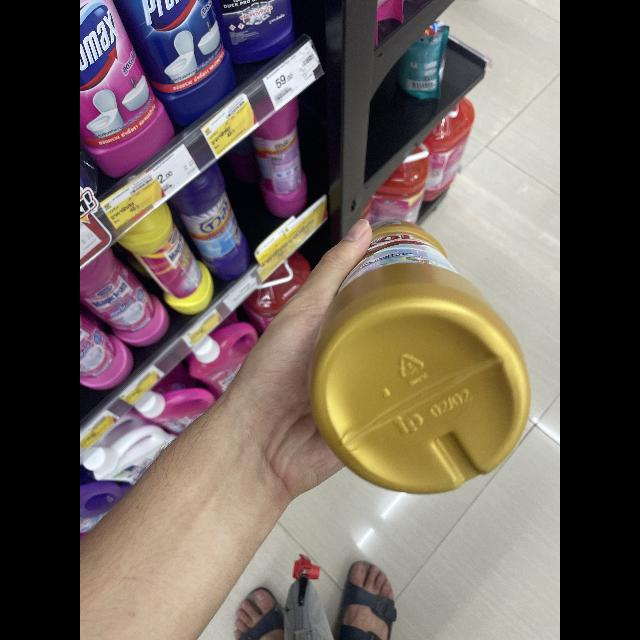chemical_plastic_bottle: (308, 219, 538, 496)
